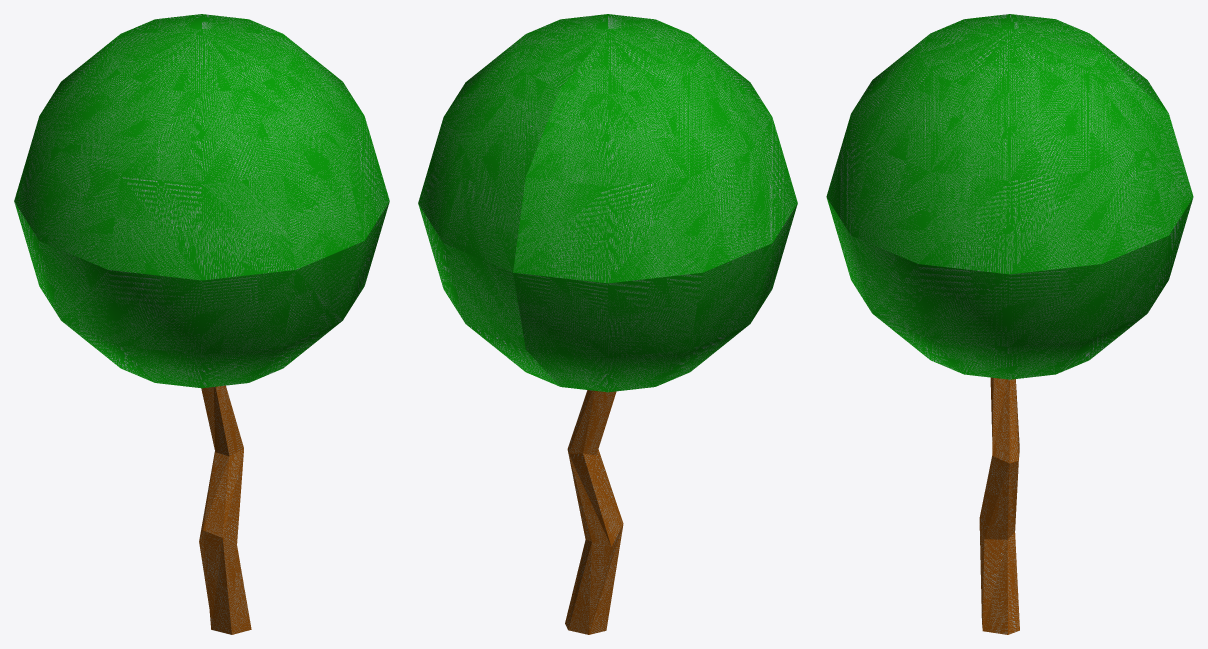
Rendered from Tree.fbx.
3 renders of one model, left to right at view 1: azimuth 30°, elevation 25°; view 2: azimuth 150°, elevation 25°; view 3: azimuth 270°, elevation 25°, orthographic. The views are drawn at different scales.
Visible parts, largest first — view 1: Tree_crown, Tree_trunk; view 2: Tree_crown, Tree_trunk; view 3: Tree_crown, Tree_trunk.
Boxes of the visible parts, bbox=[...] form: Tree_crown: bbox=[14, 14, 389, 388]; Tree_trunk: bbox=[199, 385, 251, 634]; Tree_crown: bbox=[418, 14, 797, 392]; Tree_trunk: bbox=[565, 390, 623, 634]; Tree_crown: bbox=[826, 14, 1193, 379]; Tree_trunk: bbox=[979, 377, 1019, 634].
Size of the model in its own units: 162 by 284 by 162.
